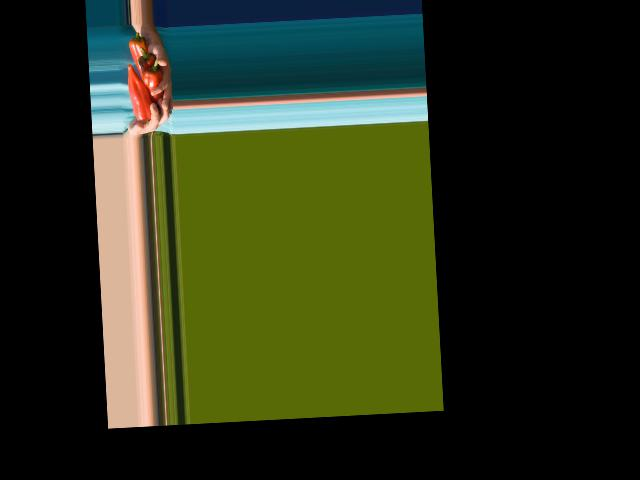bell_pepper: (128, 31, 150, 69)
